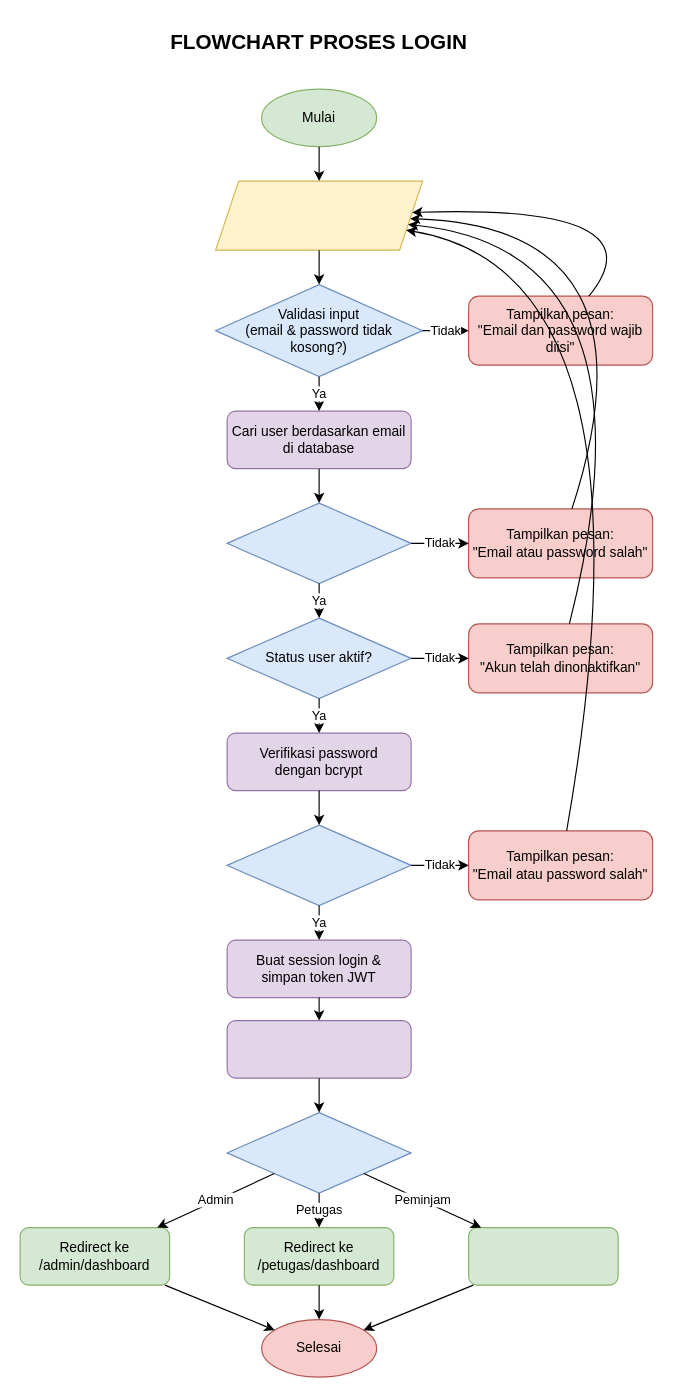
This 673x1397 diagram has some shape labels left out. Each missing label, with the box of its shape:
Catat aktivitas login ke log_aktivitas: (226, 1019, 411, 1078)
Cek role user: (226, 1111, 411, 1193)
Password valid?: (226, 824, 411, 906)
Redirect ke /peminjam/dashboard: (467, 1226, 618, 1285)
User ditemukan?: (226, 502, 411, 584)
User memasukkan Email dan Password: (214, 180, 423, 250)
